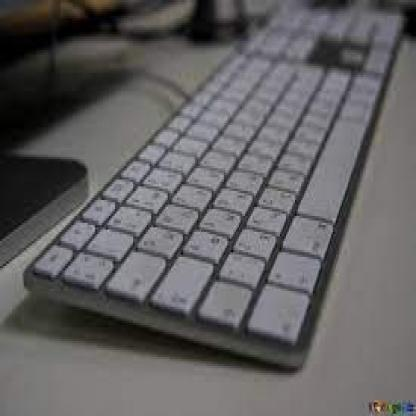keyboard: (92, 217, 301, 313), (171, 128, 337, 206), (226, 77, 356, 125)
